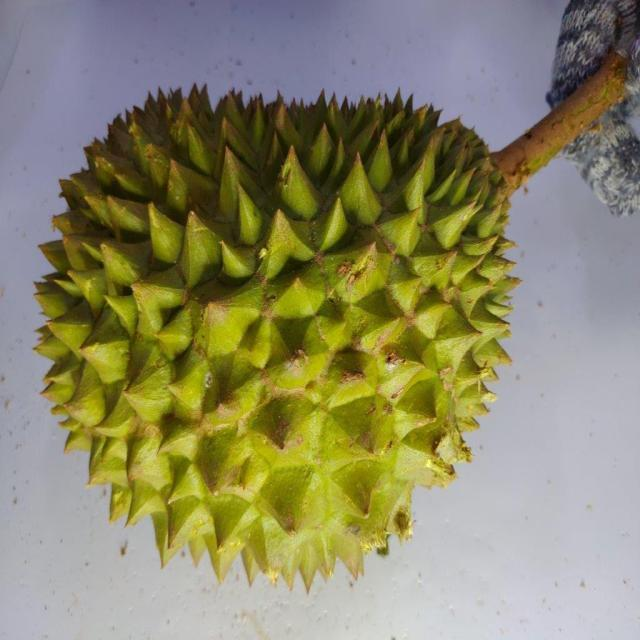immature: (33, 75, 521, 586)
